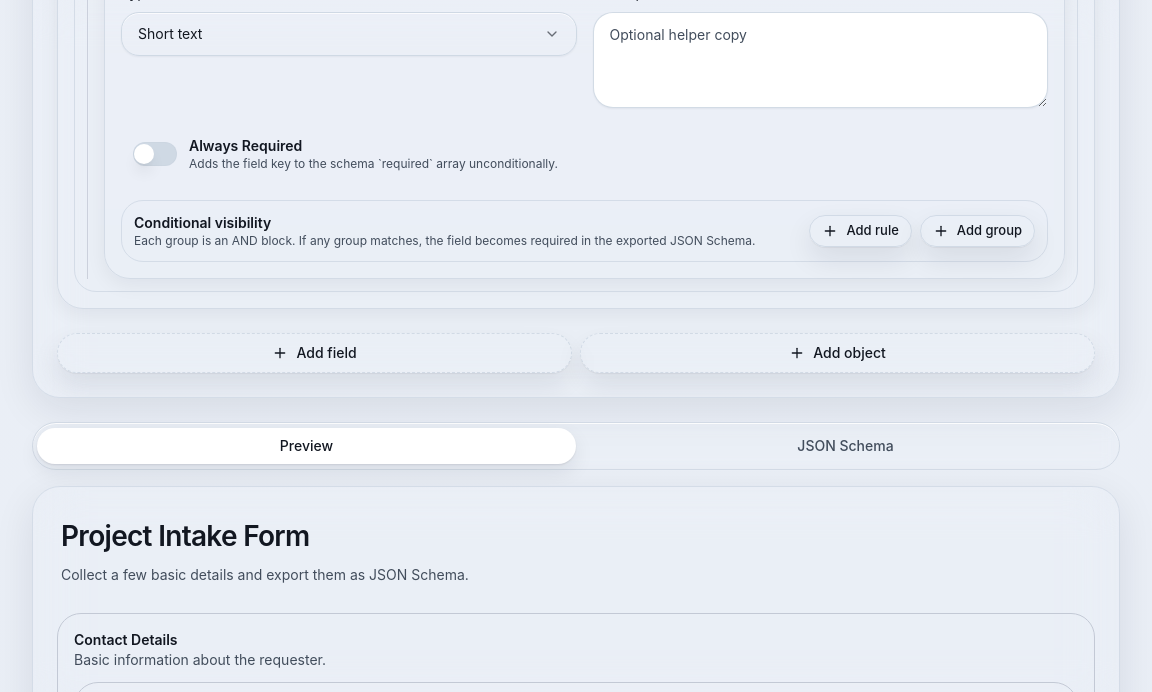
JsonSchemaFormBuilderApp › blocks export when duplicate keys exist
The width and height of the screenshot is (1152, 692).
(page scrolled)
Click the button "Add field". click: {"x": 314, "y": 353}
box: 57,333 -> 572,373
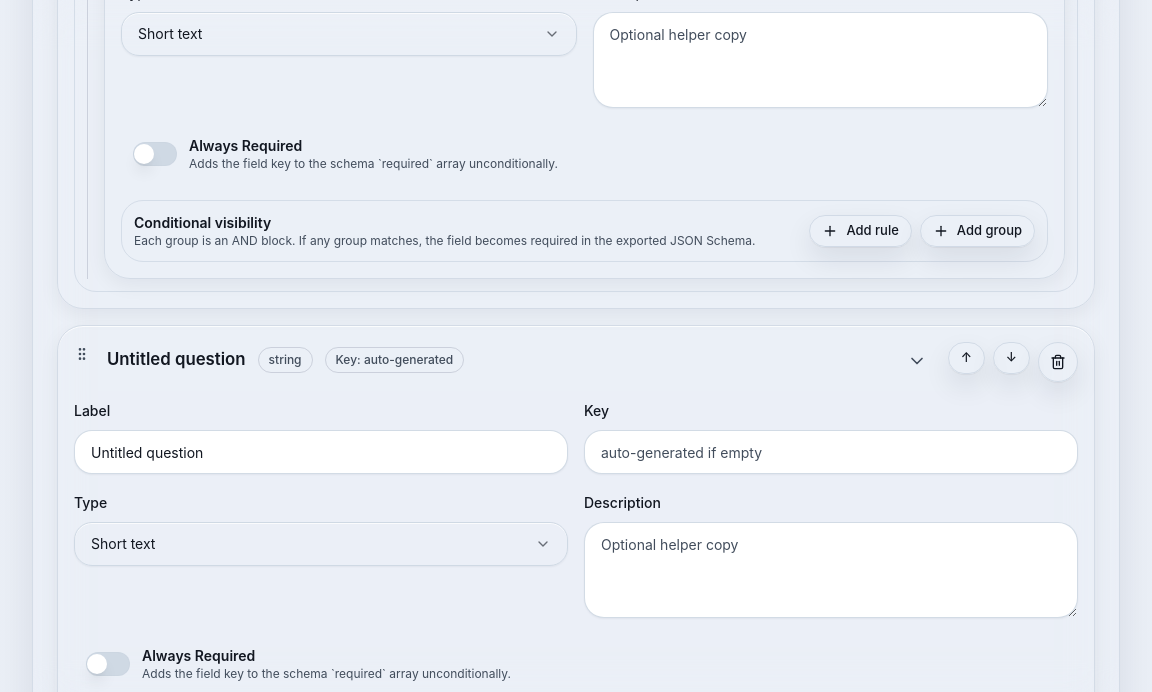
Type "request_type" into the field labelled "Key". click: {"x": 831, "y": 452}
box: 584,430 -> 1078,474
(page scrolled)
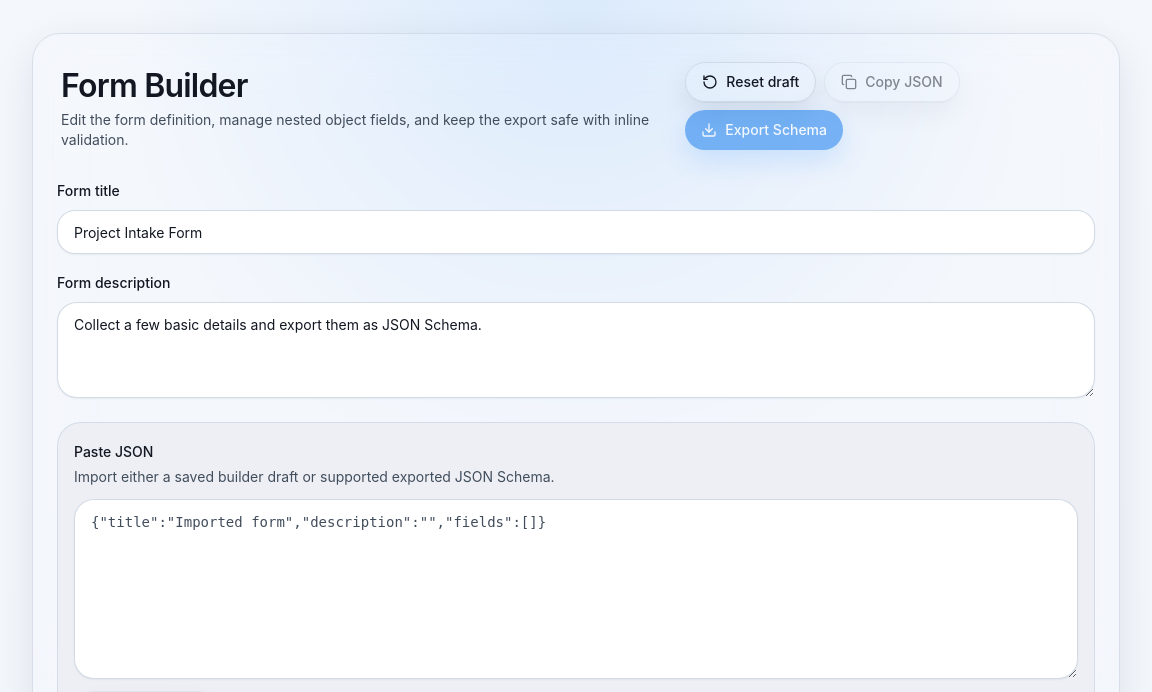
Check: the button "Copy JSON" is disabled, box 824,62 -> 960,102
Check: the button "Export Schema" is disabled, box 685,110 -> 843,150
